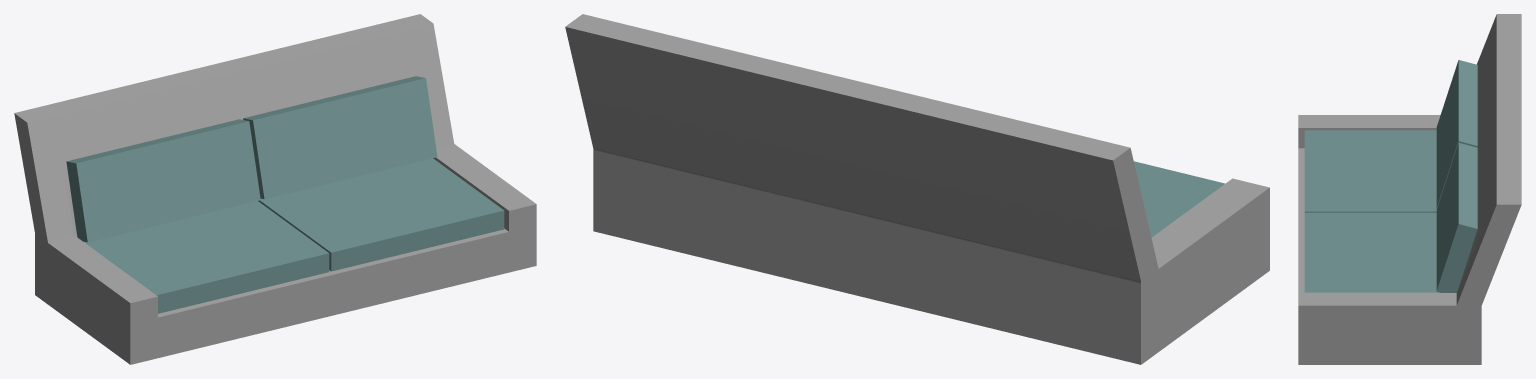
Rendered from mobl.fbx.
3 renders of one model, left to right at view 1: azimuth 30°, elevation 25°; view 2: azimuth 150°, elevation 25°; view 3: azimuth 270°, elevation 25°, orthographic. The views are drawn at different scales.
Parts seen in each view (by area): view 1: pCube1, pCube4, pCube3, pCube2, pCube5; view 2: pCube1, pCube2; view 3: pCube1, pCube2, pCube3, pCube5, pCube4.
Part boxes in pixels (box(x1,y1,x2,y2)): pCube1: box(14, 14, 536, 364); pCube4: box(66, 119, 260, 242); pCube3: box(258, 158, 504, 271); pCube2: box(83, 201, 329, 313); pCube5: box(243, 76, 437, 199); pCube1: box(565, 14, 1269, 364); pCube2: box(1134, 161, 1224, 237); pCube1: box(1298, 14, 1521, 364); pCube2: box(1304, 130, 1436, 212); pCube3: box(1304, 212, 1438, 292); pCube5: box(1436, 143, 1477, 292); pCube4: box(1436, 60, 1477, 208).
Bounding box in the file's own units: 517 × 203 × 256.
